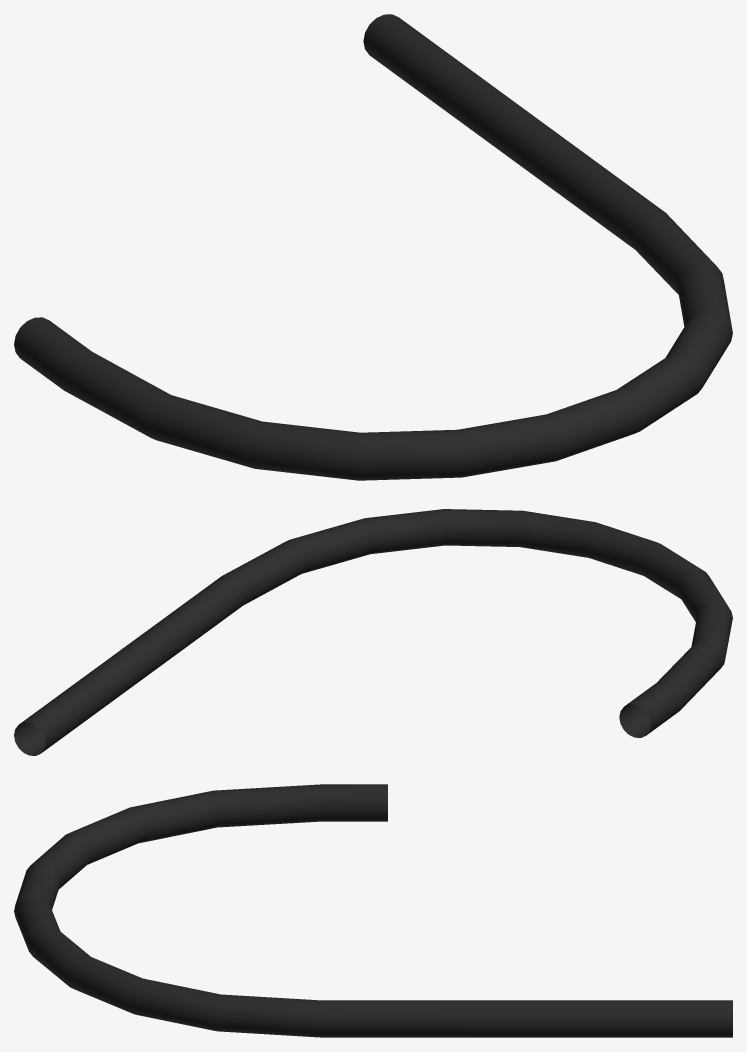
Rendered from Histo_x550_y-340_ae_h0.obj.
3 views of the same model, one above another, from view 1: azimuth 30°, elevation 25°; view 2: azimuth 150°, elevation 25°; view 3: azimuth 270°, elevation 25° (orthographic). The views are drawn at different scales.
Parts seen in each view (by area): view 1: Ausleger.001; view 2: Ausleger.001; view 3: Ausleger.001.
Part boxes in pixels (x1=…): Ausleger.001: x1=14, y1=14, x2=732, y2=480; Ausleger.001: x1=14, y1=509, x2=732, y2=755; Ausleger.001: x1=14, y1=784, x2=732, y2=1037.
Bounding box in the file's own units: 0.59 × 0.04 × 0.7738.
1 material, 1 textured.
